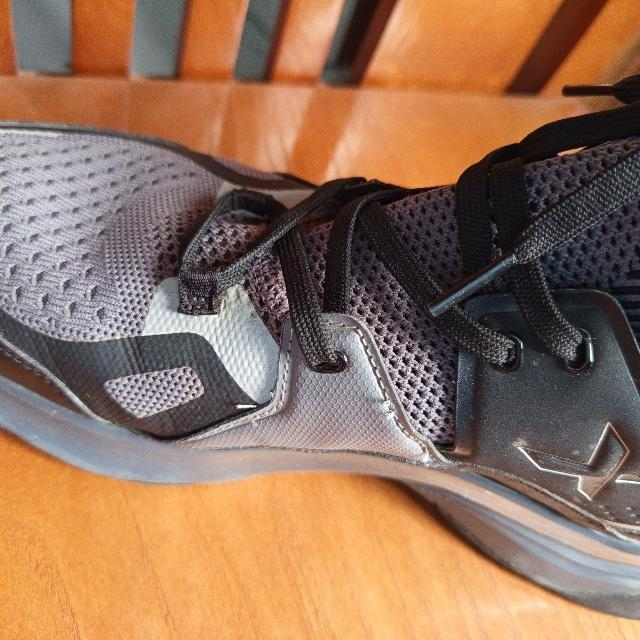broken-error: (379, 397, 398, 421)
